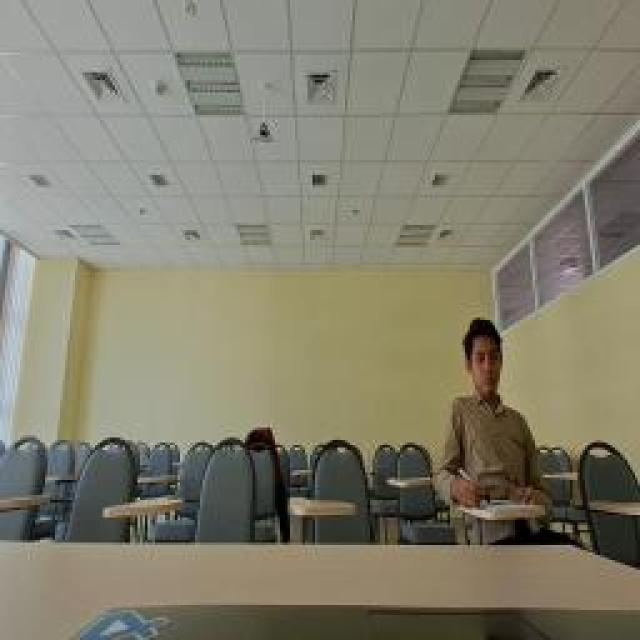study: (437, 318, 545, 508)
